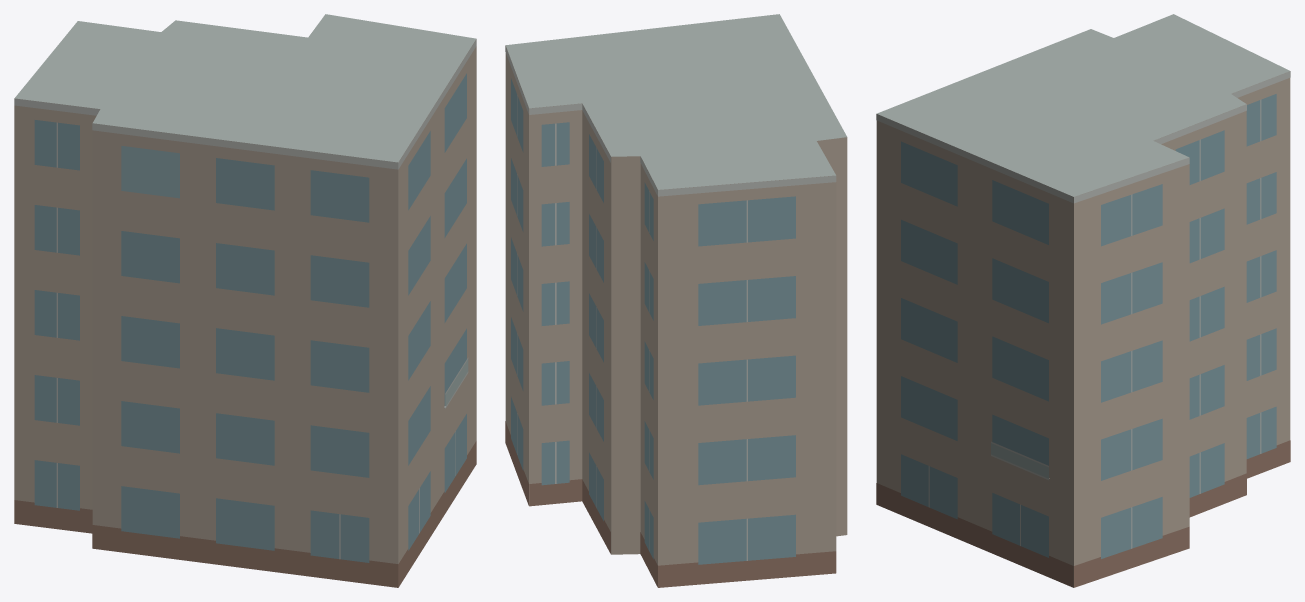
File: survey-upis-32994227.glb
3 renders of one model, left to right at view 1: azimuth 30°, elevation 25°; view 2: azimuth 150°, elevation 25°; view 3: azimuth 270°, elevation 25°, orthographic. The views are drawn at different scales.
Visible parts, largest first — view 1: survey-upis-32994227.tmp; view 2: survey-upis-32994227.tmp; view 3: survey-upis-32994227.tmp.
Part boxes in pixels (x1,y1,x2,y2): survey-upis-32994227.tmp: (14, 14, 476, 587); survey-upis-32994227.tmp: (505, 14, 847, 587); survey-upis-32994227.tmp: (876, 14, 1290, 587).
Bounding box in the file's own units: 14.61 × 14.55 × 13.97.
